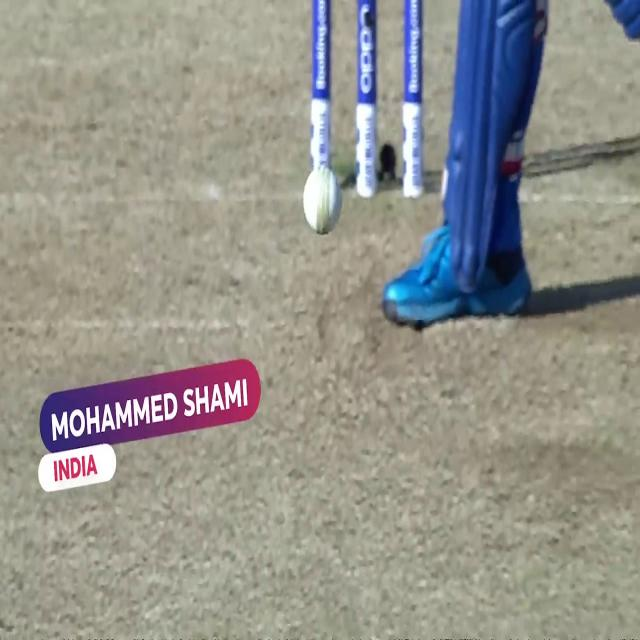ball: (302, 163, 342, 233)
